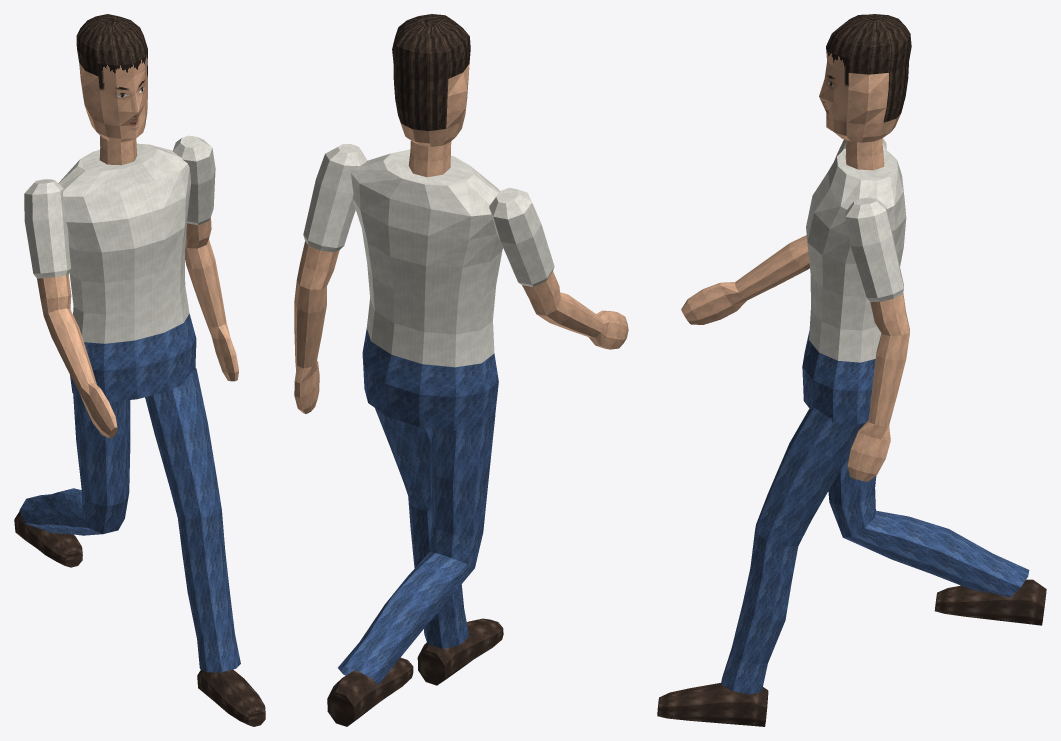
Rendered from walk_08.obj.
3 renders of one model, left to right at view 1: azimuth 30°, elevation 25°; view 2: azimuth 150°, elevation 25°; view 3: azimuth 270°, elevation 25°, orthographic. The views are drawn at different scales.
Bounding box in the file's own units: 0.6214 × 1.8 × 0.9344.
Materials: 25 (25 with a texture image).
